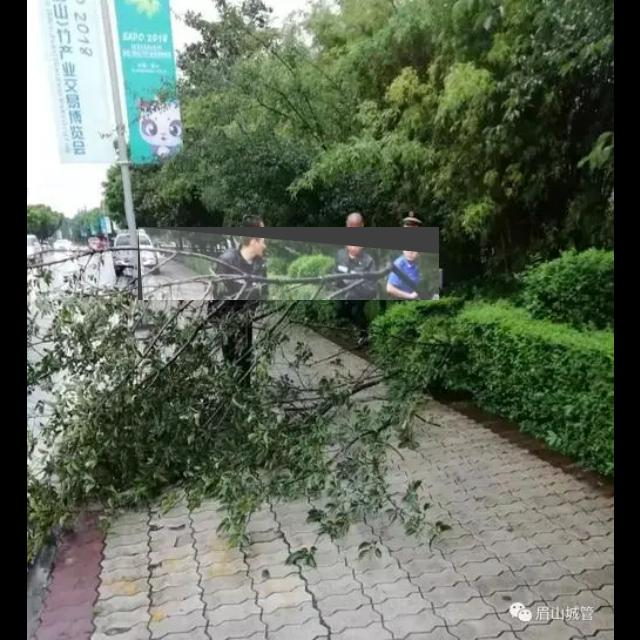Fallen Tree: (138, 227, 440, 301)
